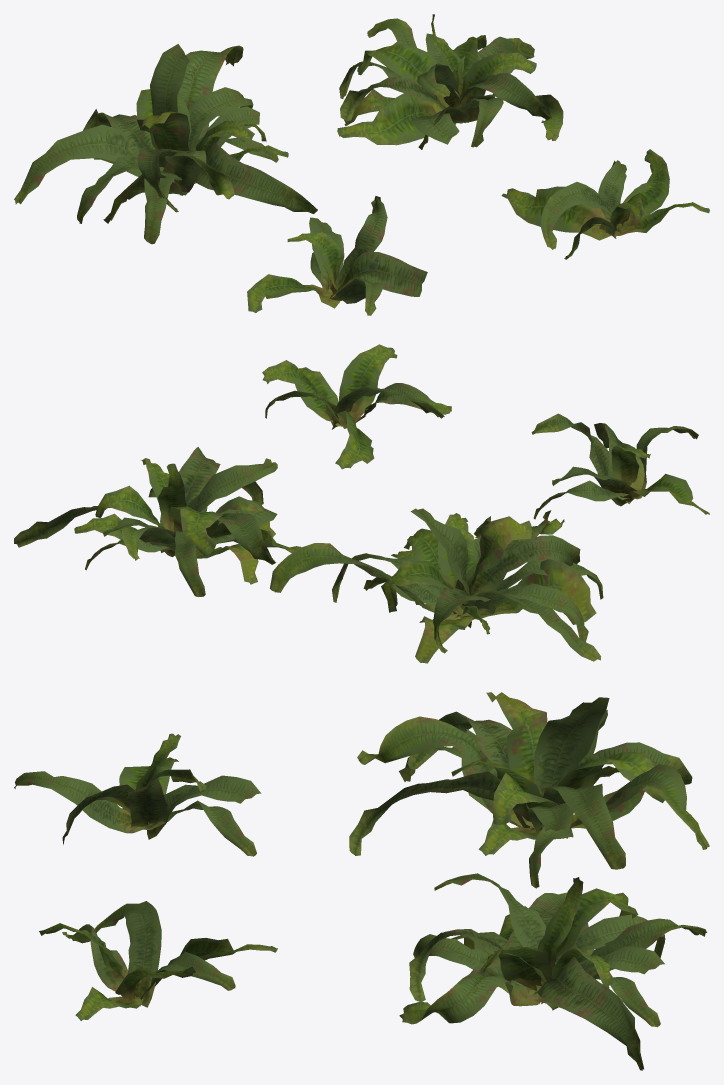
Rendered from fern.glb.
3 renders of one model, top to bottom at view 1: azimuth 30°, elevation 25°; view 2: azimuth 150°, elevation 25°; view 3: azimuth 270°, elevation 25°, orthographic. The views are drawn at different scales.
Visible parts, largest first — view 1: fern_02_b; view 2: fern_02_b; view 3: fern_02_b.
Part boxes in pixels (bbox=[...]): fern_02_b: bbox=[14, 14, 709, 315]; fern_02_b: bbox=[14, 344, 709, 663]; fern_02_b: bbox=[14, 692, 709, 1070].
Bounding box in the file's own units: 1.97 × 0.4277 × 1.72.
Materials: 1 (1 with a texture image).
